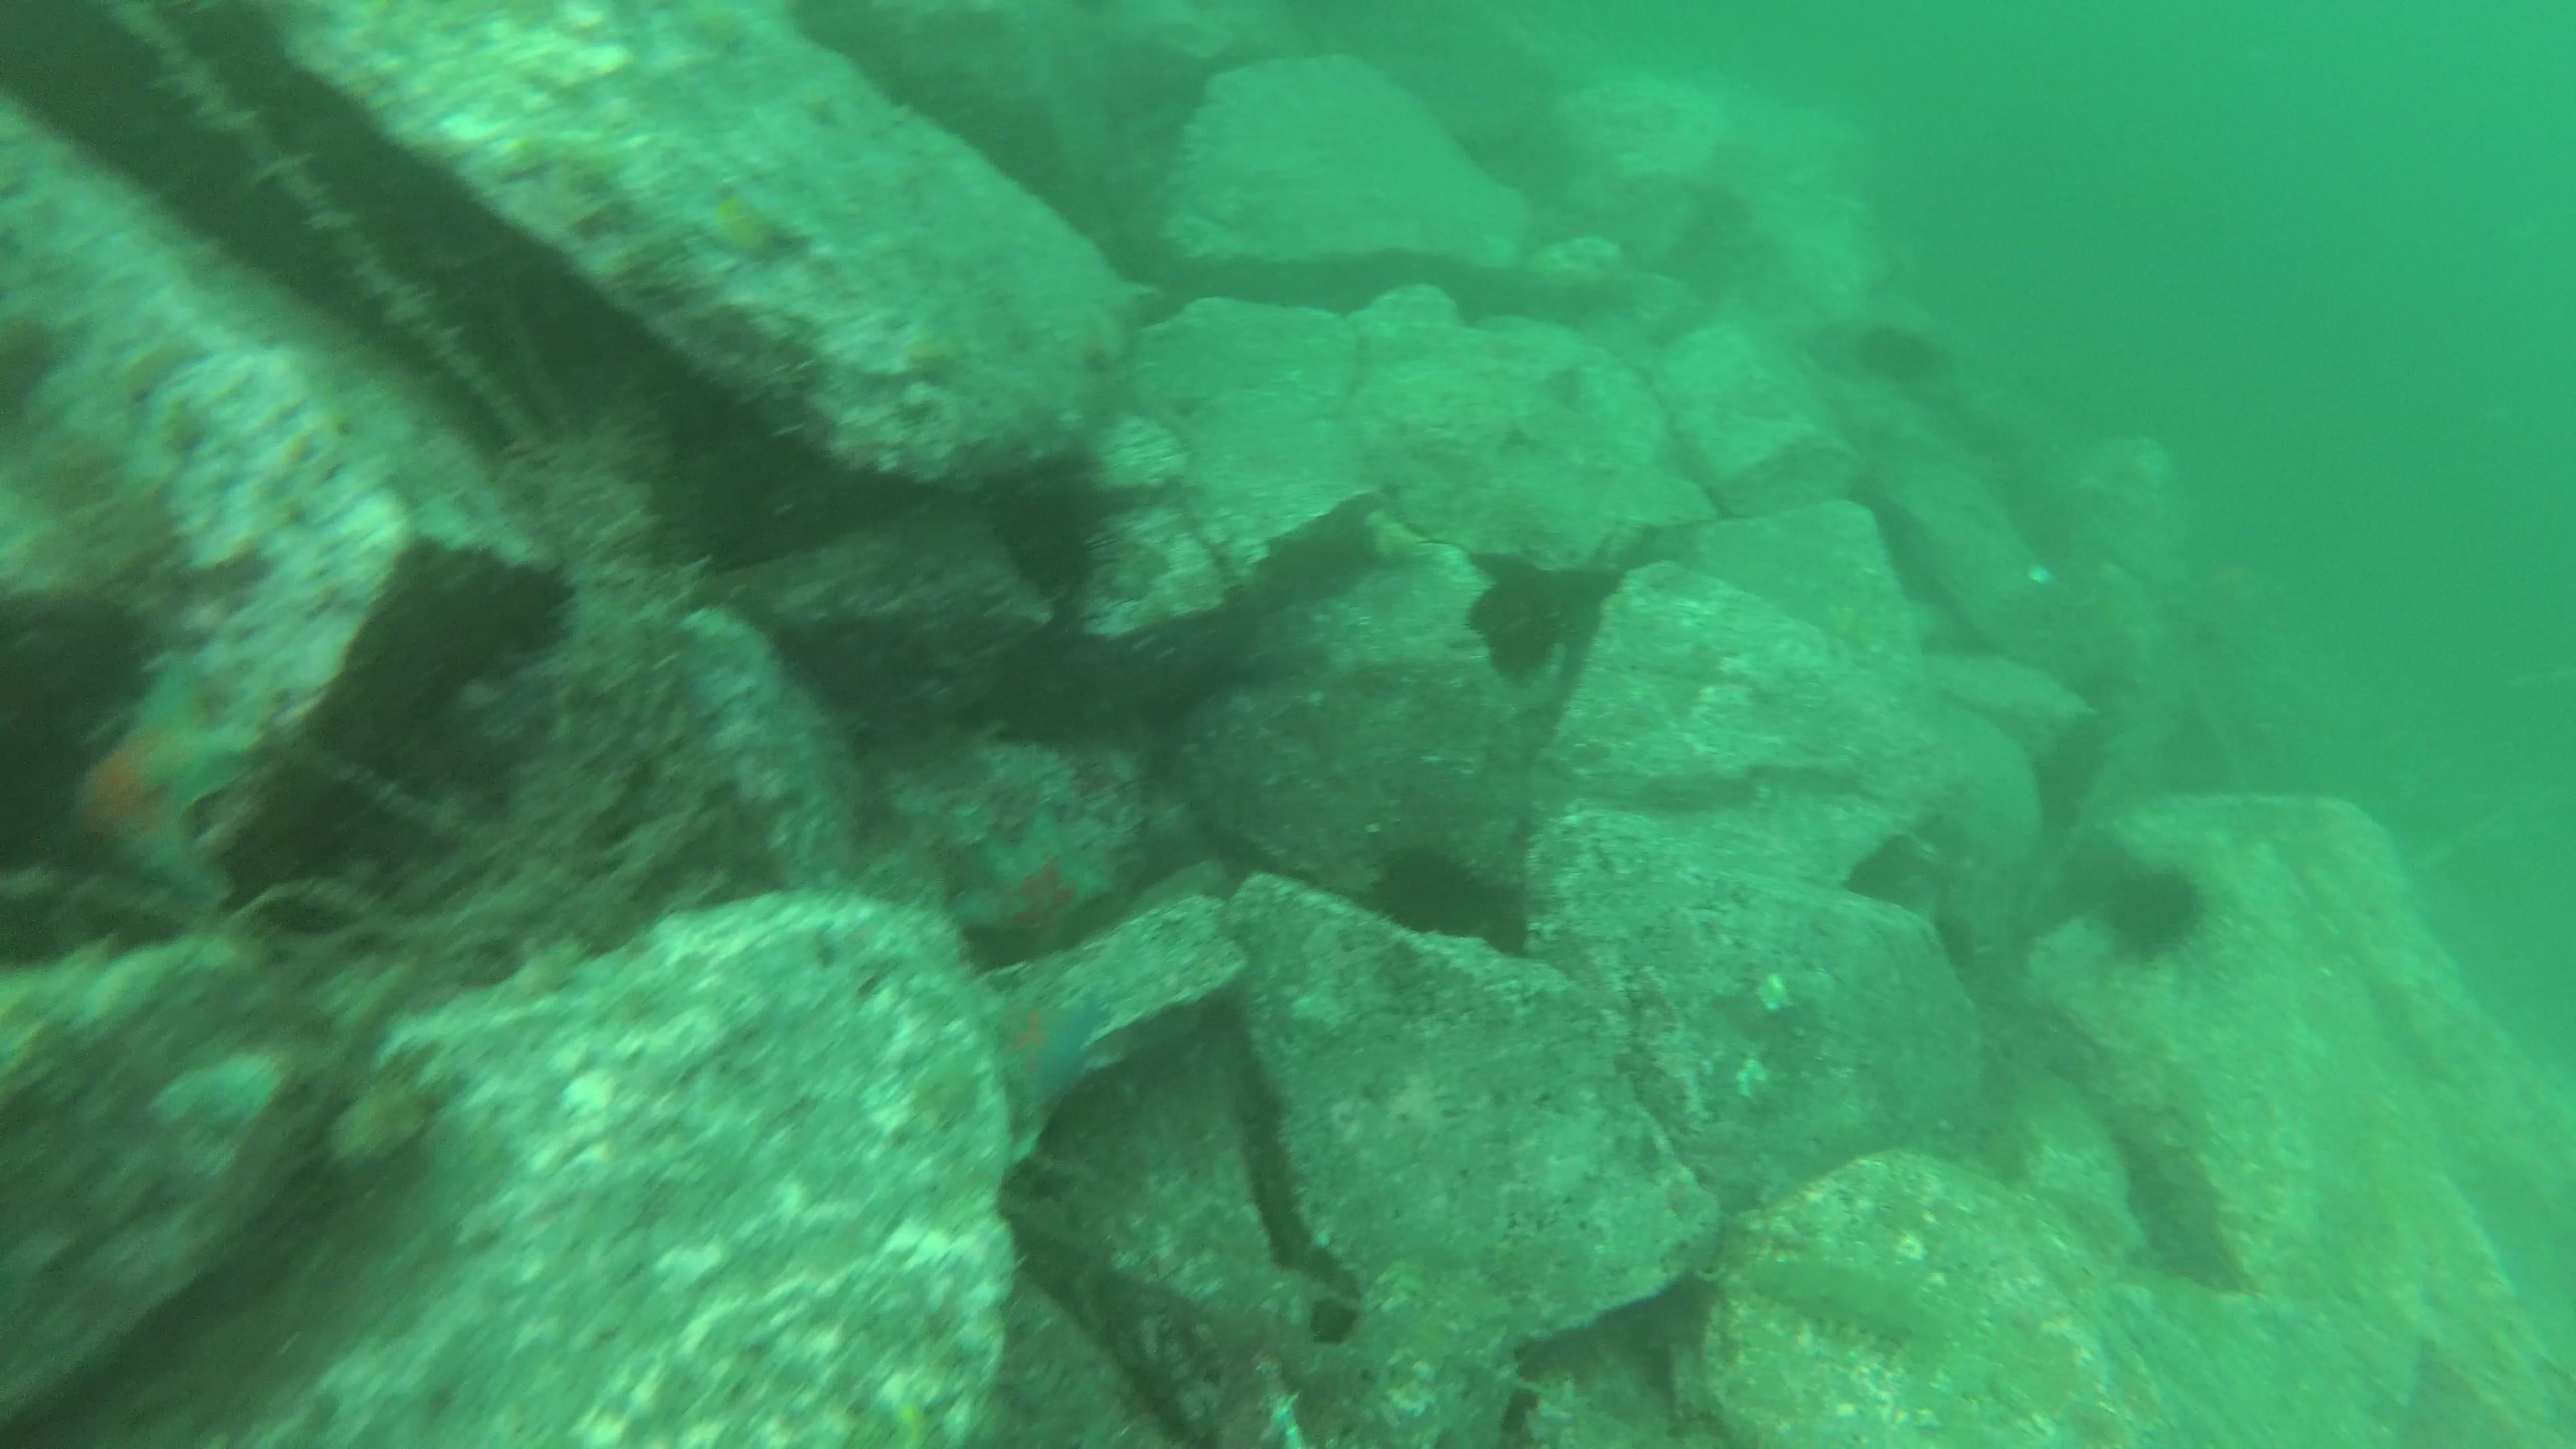echinus: (2098, 847, 2227, 975)
holothurian: (1752, 1233, 1950, 1369)
starfish: (57, 653, 271, 904), (950, 810, 1113, 957), (656, 166, 816, 267), (993, 973, 1108, 1109)
